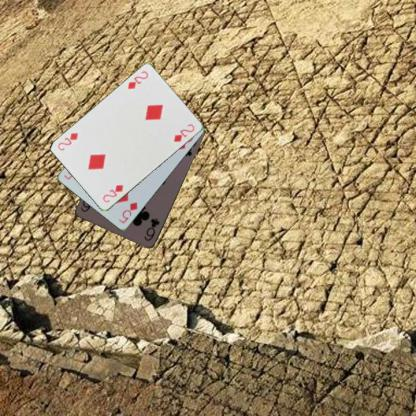2d: (124, 68, 150, 90), (100, 183, 125, 204)
5d: (116, 200, 139, 225)
6c: (142, 216, 160, 243)
